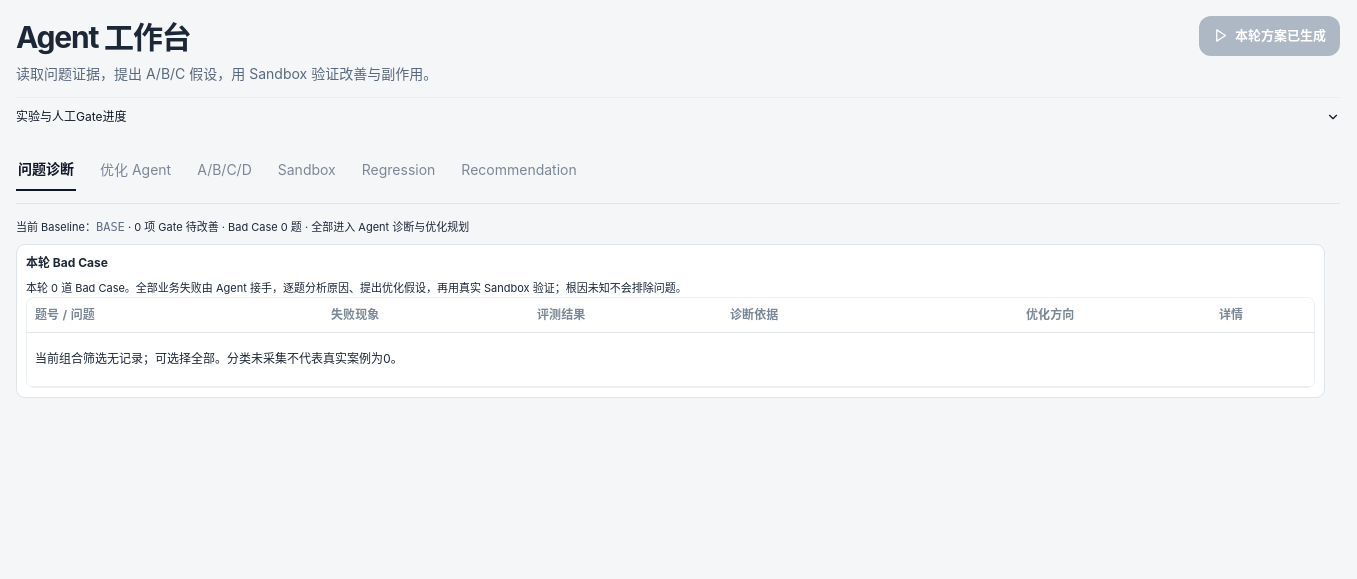
Test: does not infer a final recommendation from evaluated records with missing decision
The width and height of the screenshot is (1357, 579).
What coordinates should you click on to do the following:
click the button "Recommendation"
I would click on:
 (519, 170)
Its box is [459,148,579,191].
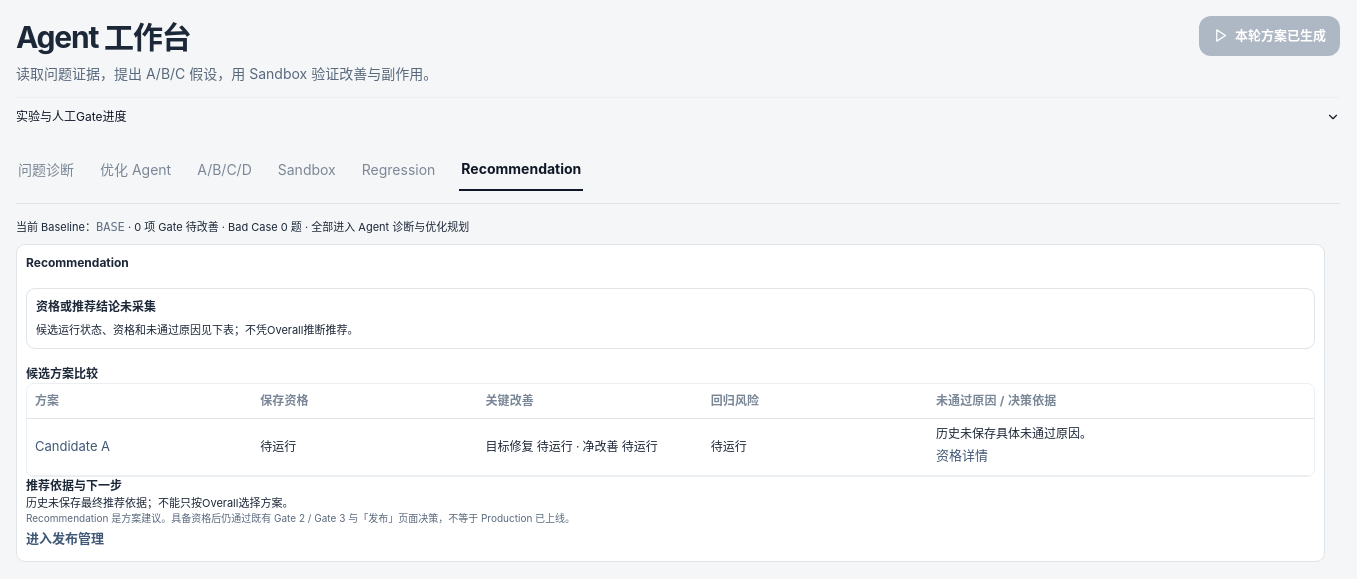
expect the element with class "conclusion-card" shows "未采集": met, box [26,288,1315,349]
